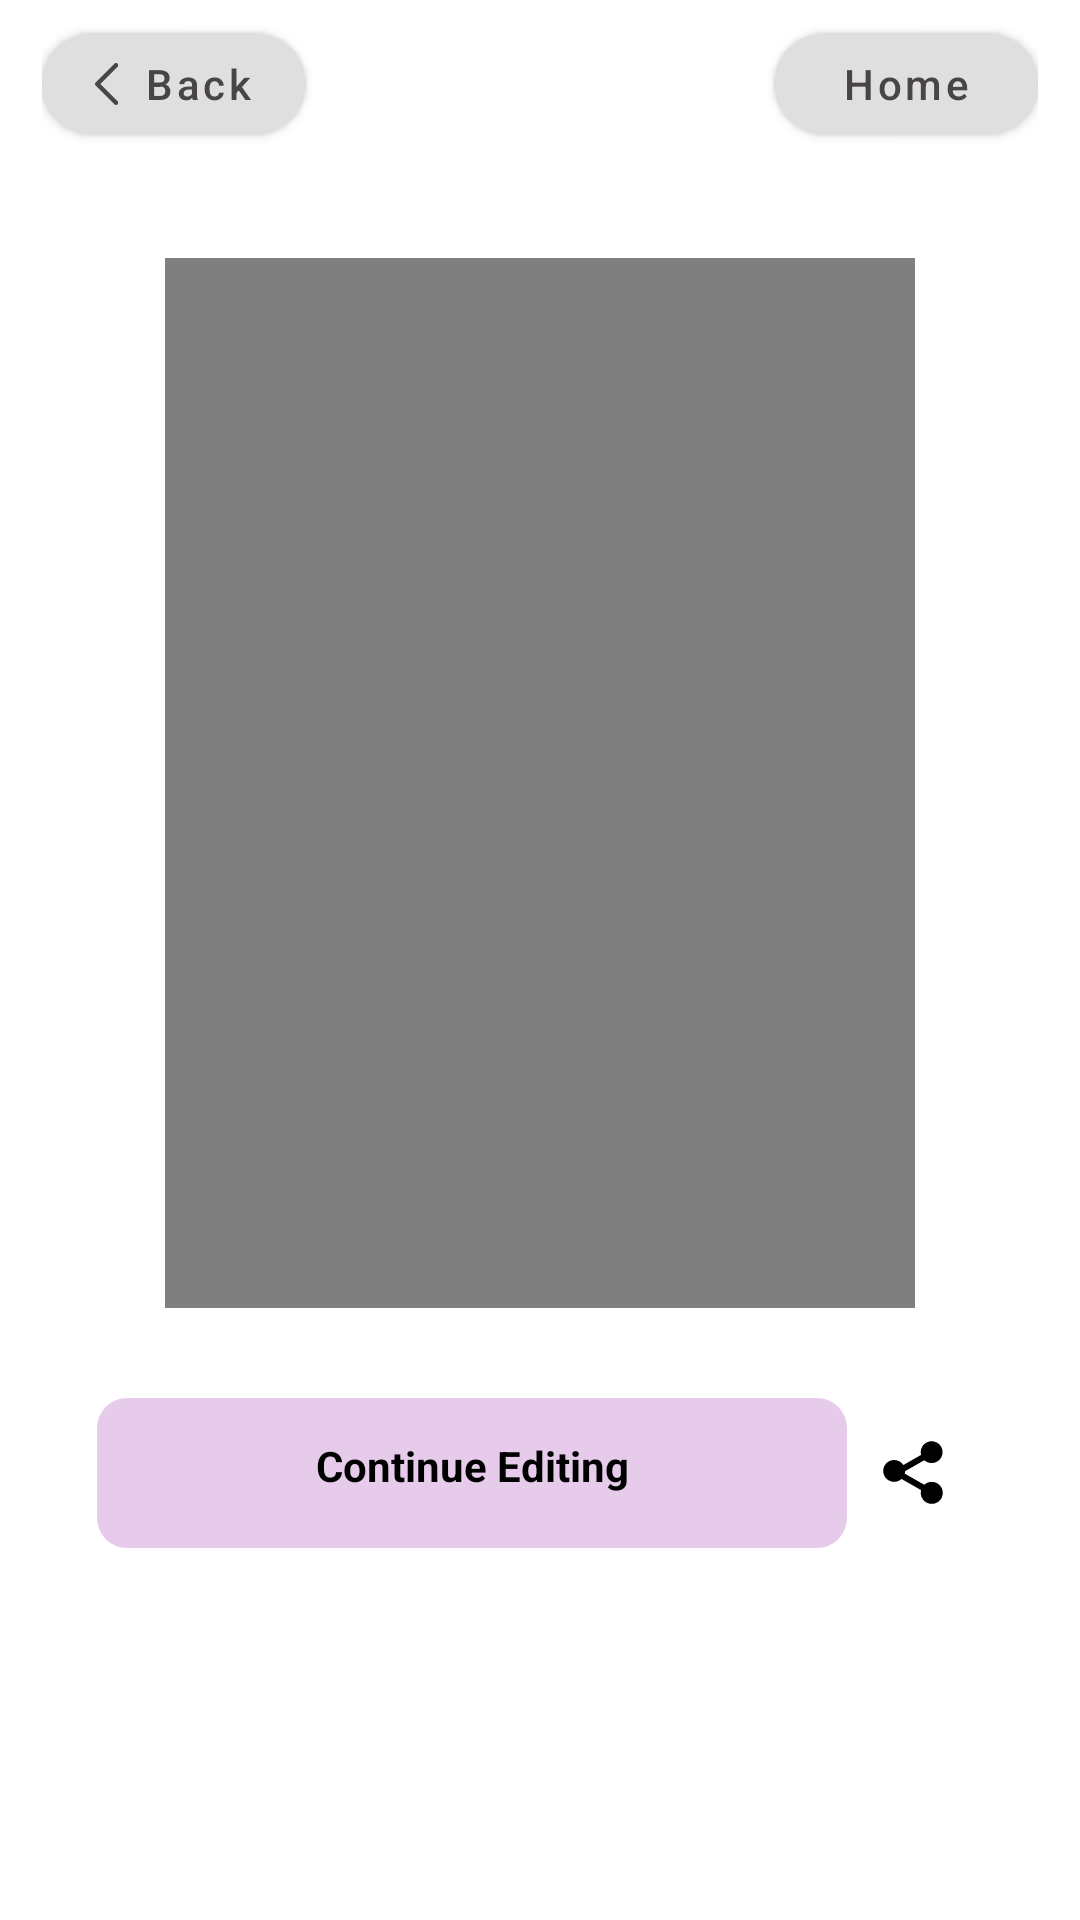

Where icons sit on this 1080w x 1920h app screen, as [x1=x1, y1=y1, x2=x2, y2=y2]:
share: [x1=883, y1=1441, x2=943, y2=1504]
